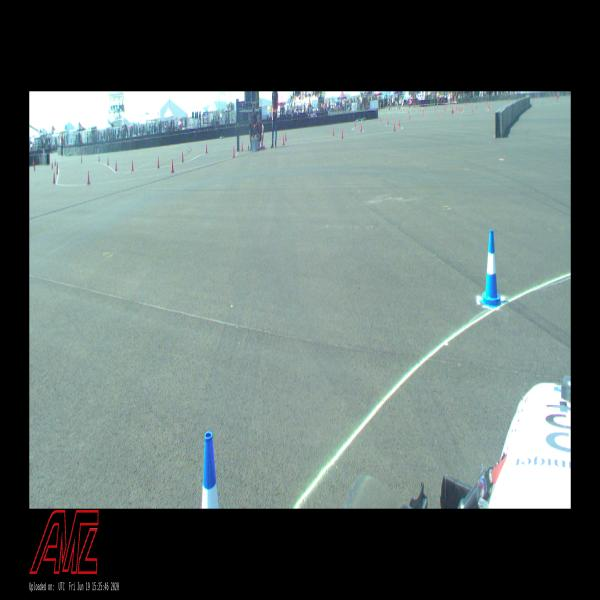blue_cone: (479, 230, 505, 309), (202, 432, 219, 508)
unknown_cone: (86, 170, 90, 185), (52, 169, 56, 184), (114, 159, 118, 172), (171, 158, 174, 173), (240, 141, 244, 151), (131, 159, 134, 172), (157, 156, 160, 168), (205, 144, 208, 154), (282, 135, 285, 145), (332, 126, 335, 136), (393, 122, 396, 132), (233, 145, 235, 158), (341, 128, 343, 139), (182, 152, 184, 162), (284, 132, 286, 142)
